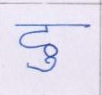u_matra: (27, 56, 59, 73)
